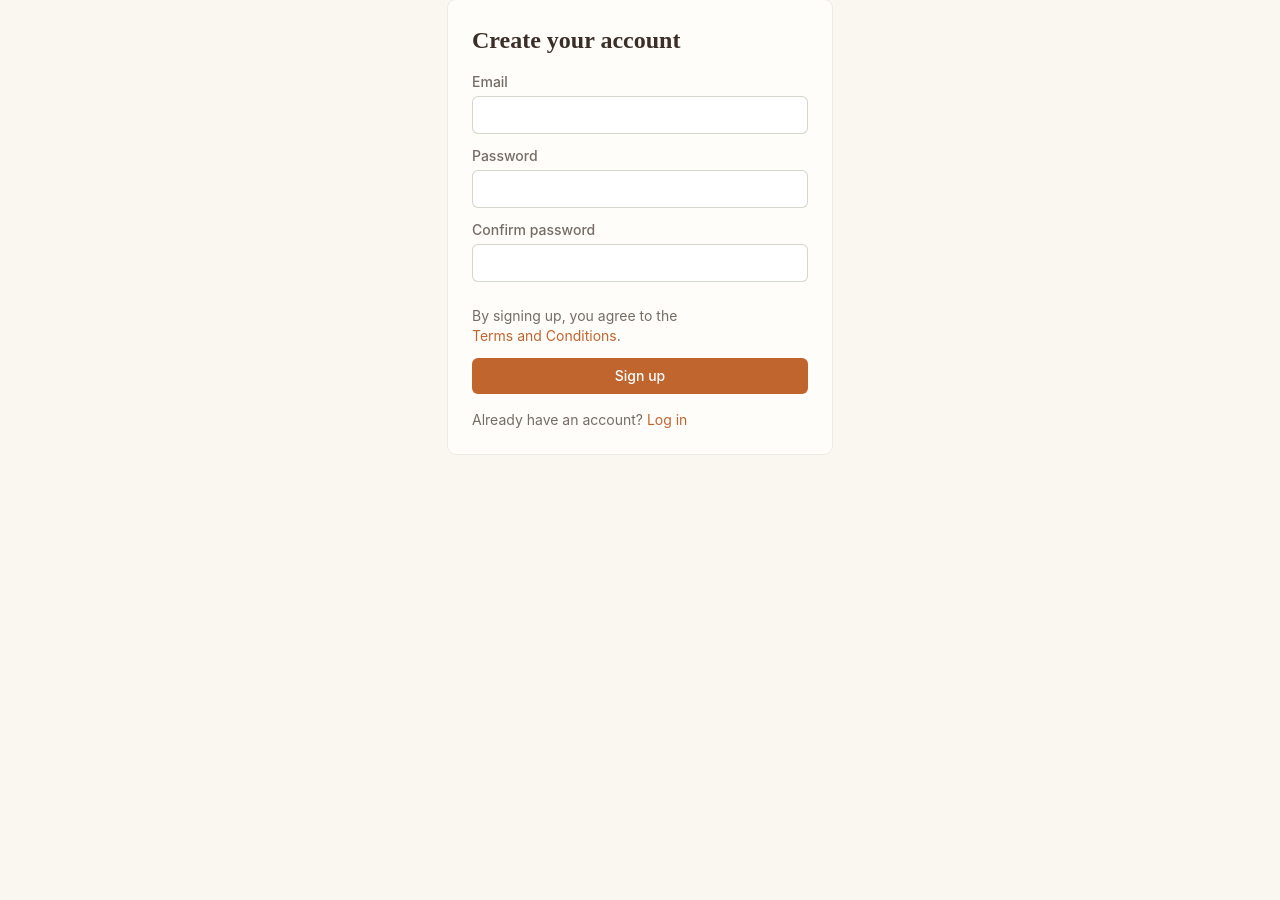
Test: SignupForm › closes the overlay without accepting when the close button is used
Click the button "Terms and Conditions": (544, 336) left=472, top=326, right=617, bottom=346
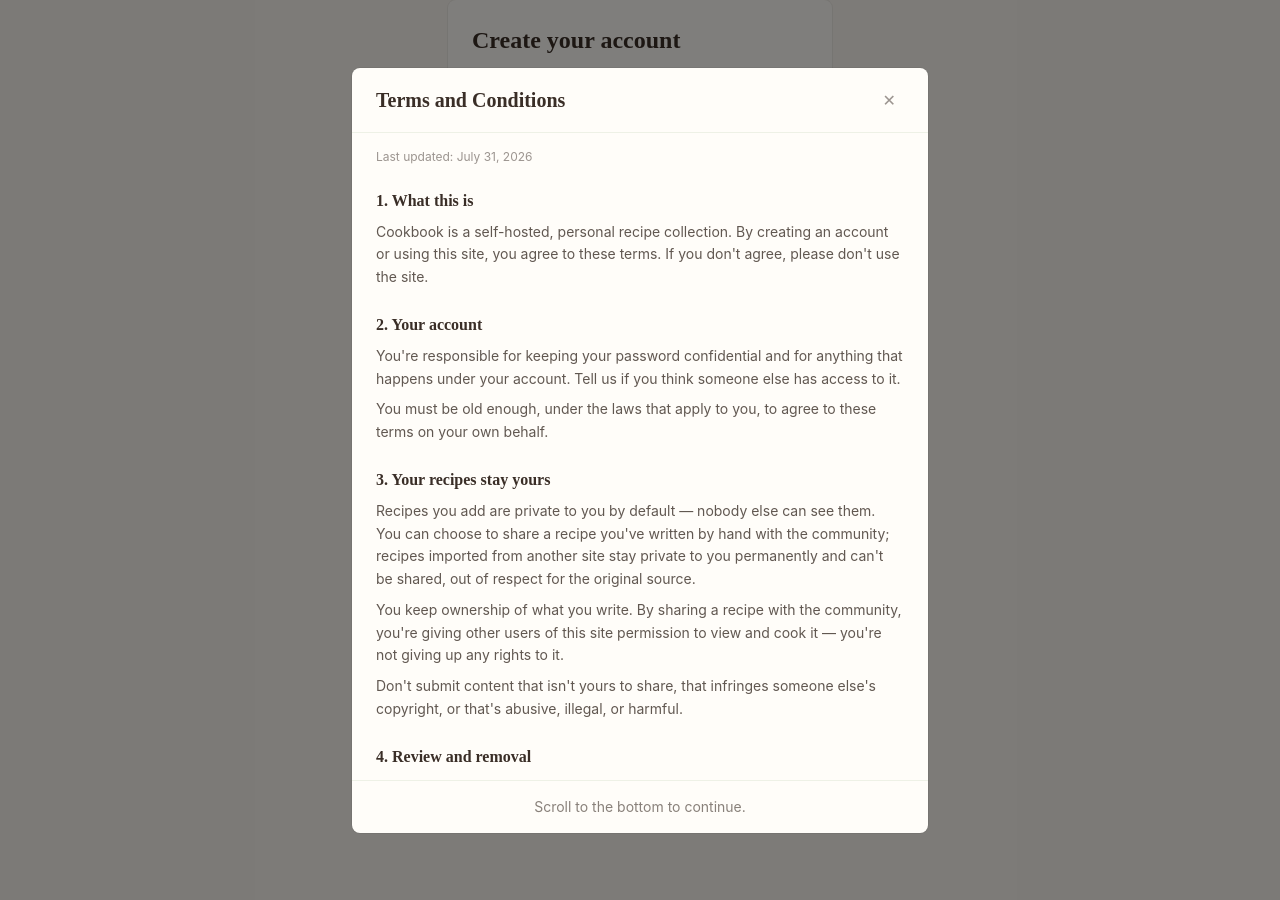
Click the button named "Close": (889, 100) left=875, top=84, right=904, bottom=116
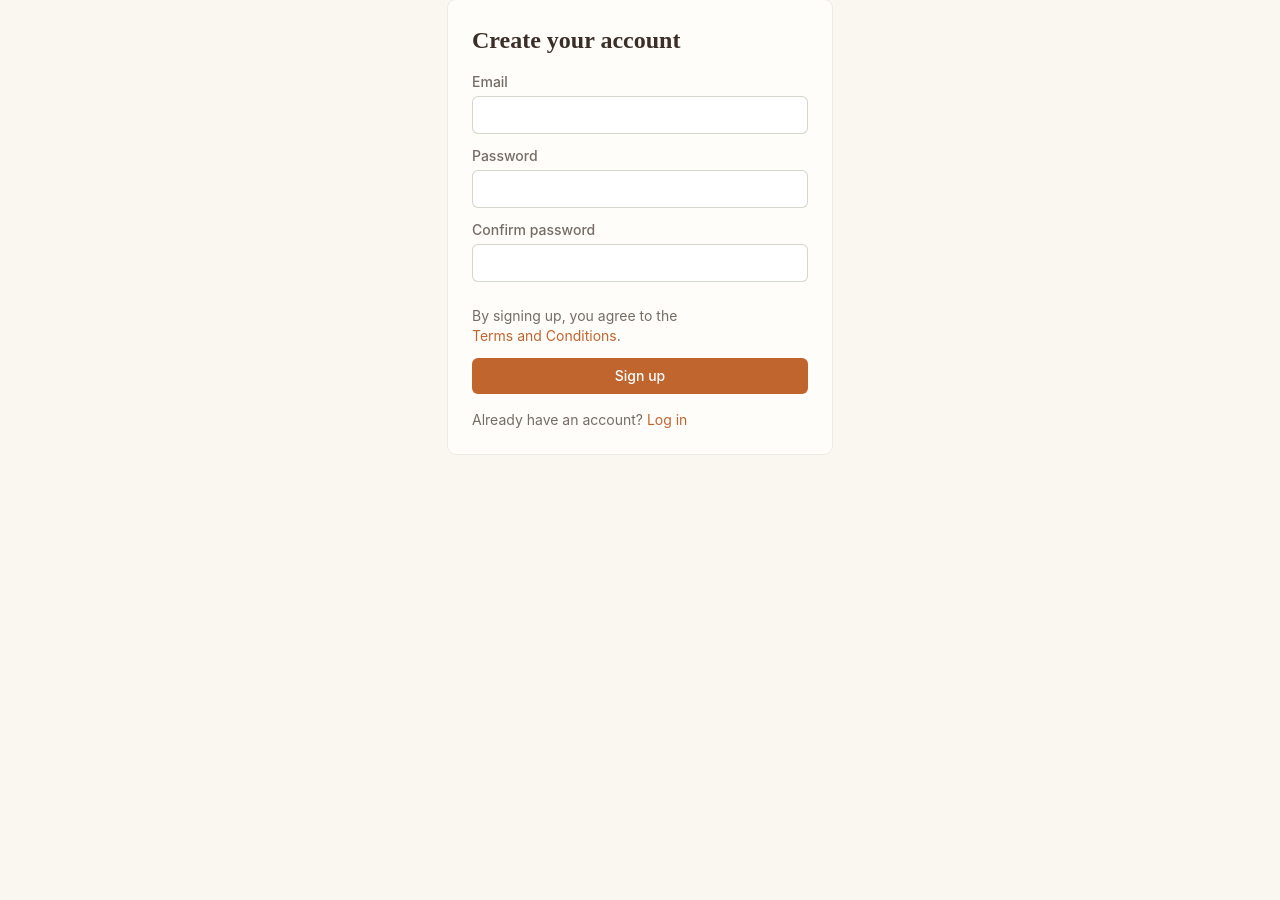
Expected: the button "Terms and Conditions" is shown, left=472, top=326, right=617, bottom=346
Result: the dialog is gone
